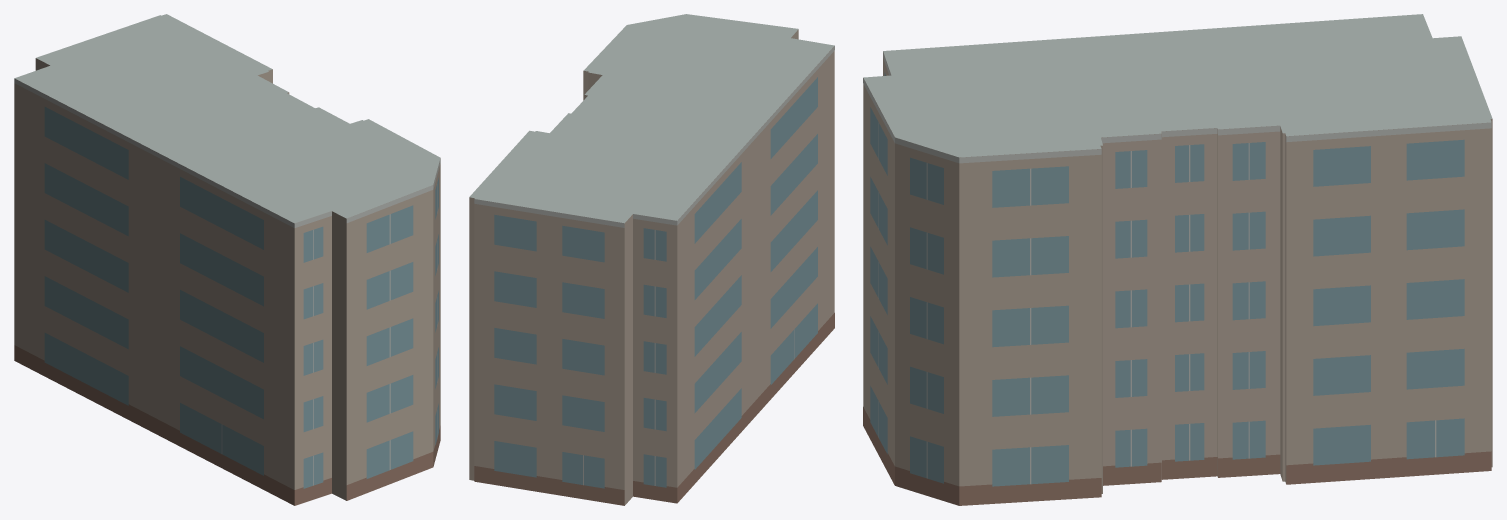
File: survey-upis-32733636.glb
The picture shows the model from 3 angles, left to right: view 1: azimuth 30°, elevation 25°; view 2: azimuth 150°, elevation 25°; view 3: azimuth 270°, elevation 25°; orthographic projection. The views are drawn at different scales.
Parts seen in each view (by area): view 1: survey-upis-32733636.tmp; view 2: survey-upis-32733636.tmp; view 3: survey-upis-32733636.tmp.
Boxes of the visible parts, <box> form: survey-upis-32733636.tmp: <box>14,14,440,505</box>; survey-upis-32733636.tmp: <box>469,14,834,505</box>; survey-upis-32733636.tmp: <box>863,14,1492,505</box>.
Bounding box in the file's own units: 12.74 × 14.41 × 23.61.
